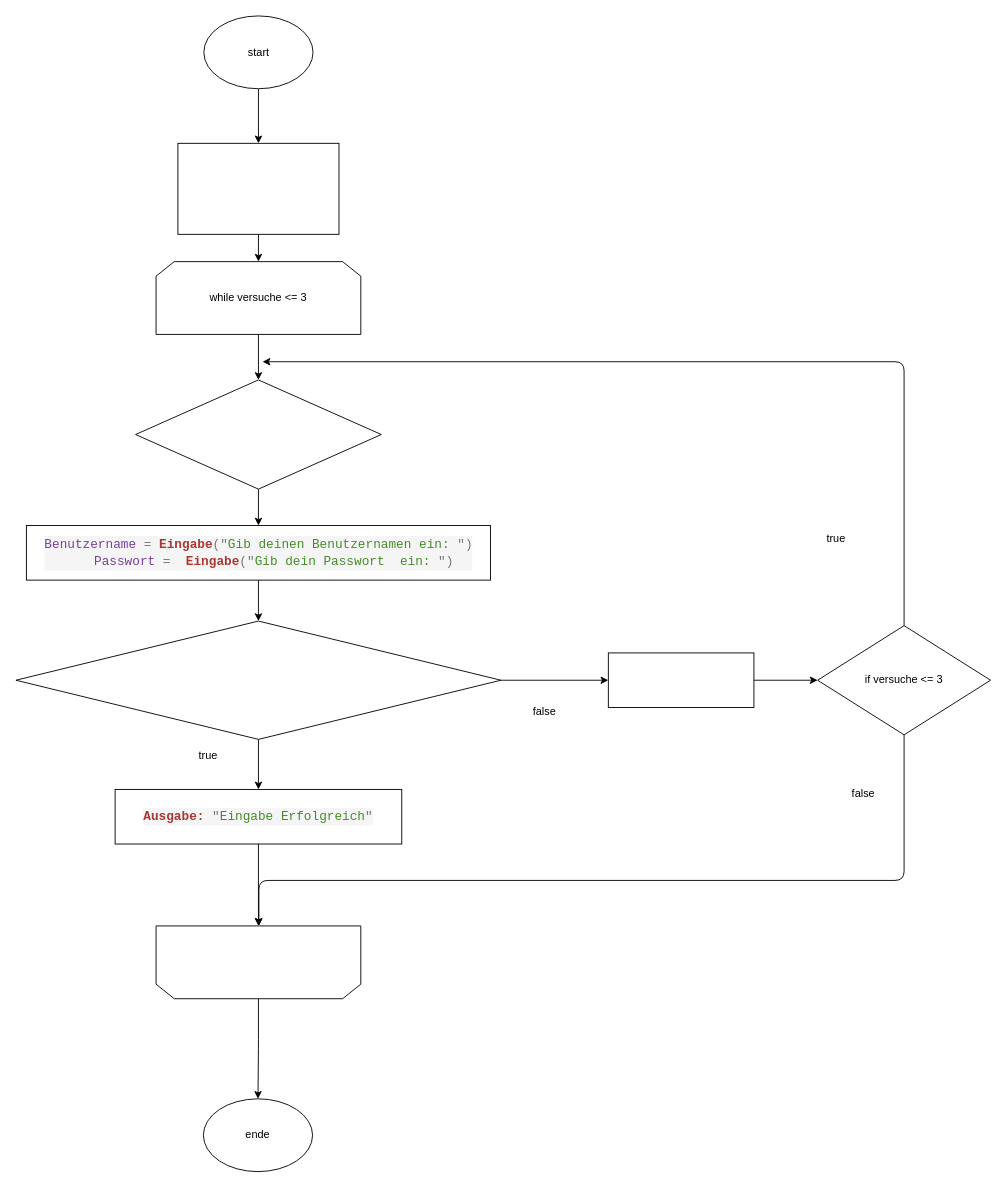
Image size: 1006x1188. Some labels were removed from this diagram. Each missing label, with the centre of its shape:
if Benutzername == " Admin " and Passwort == " geheim ": point (258, 679)
versuche += 1 Ausgabe: "Eingabe falsch": point (680, 680)
versuche = 1 angemeldet = false: point (258, 188)
